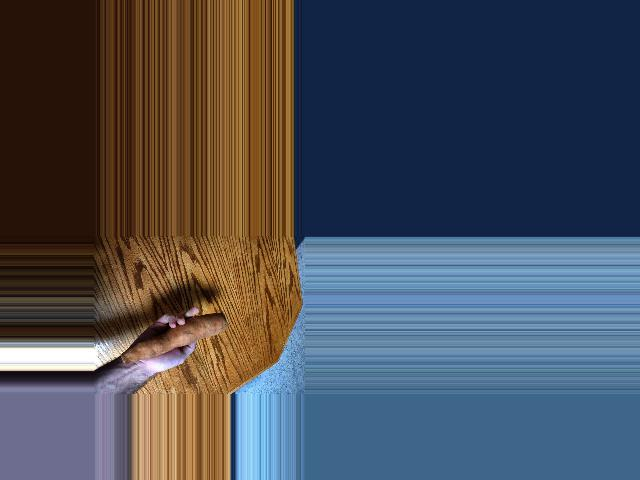sweet_potato: (120, 320, 223, 365)
